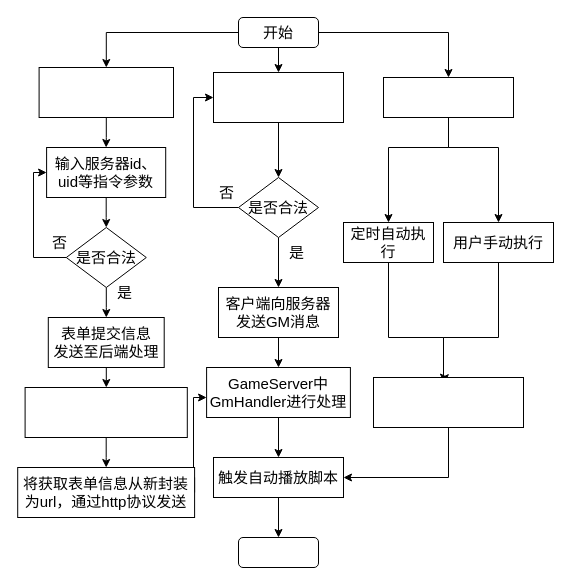
Some shapes in this 571 by 585 pixel diagram are drawn without their labels. The shapes that lost their labels are listed below. From the top down, each one's centre as x and y in pixels, then its label:
At [106,92]: "在网页端发送快照 回放游戏管理指令".
At [278,97]: "在客户端执行 快照回放GM指令".
At [448,97]: "在自动化流水线执行快照播放指令".
At [105,412]: "向DirServer请求服务 器id对应的i地址与端口".
At [448,402]: "向测试服务器发送url，执行groovy脚本".
At [278,552]: "结束".
